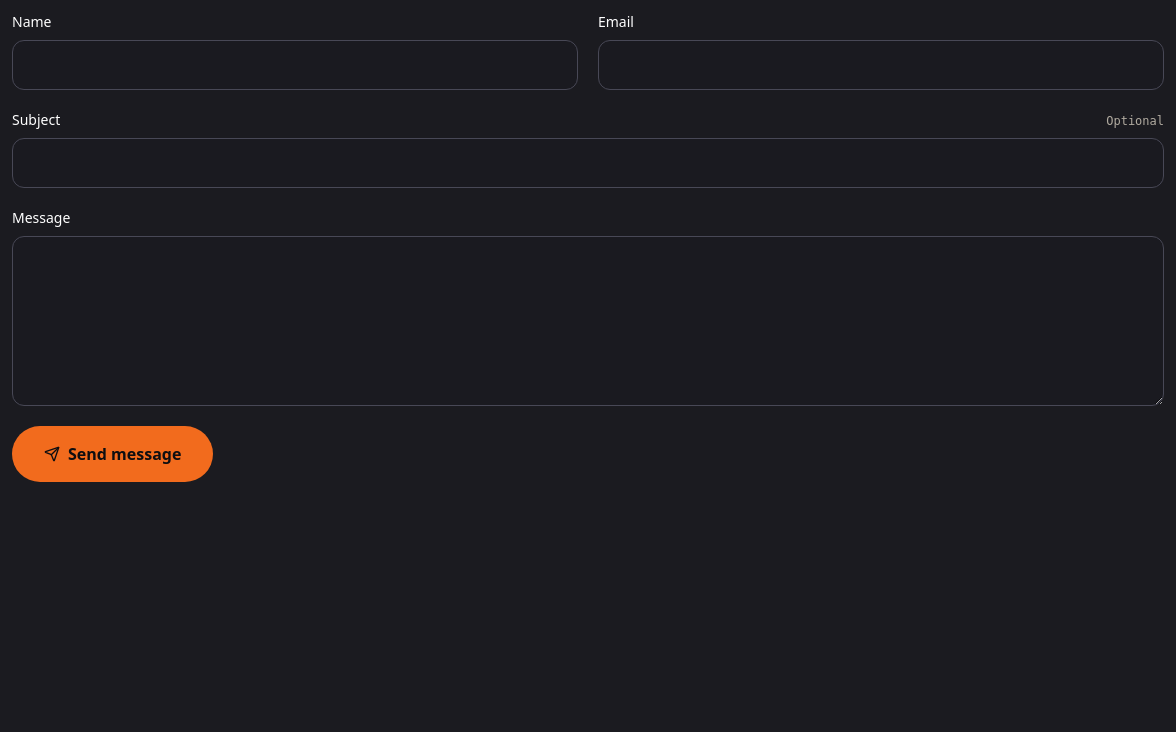
ContactForm › shows validation errors from the server against their fields
Step 1. Type "Wanjiru Kamau" into the field labelled "Name" → [295, 65], box [12, 40, 578, 90]
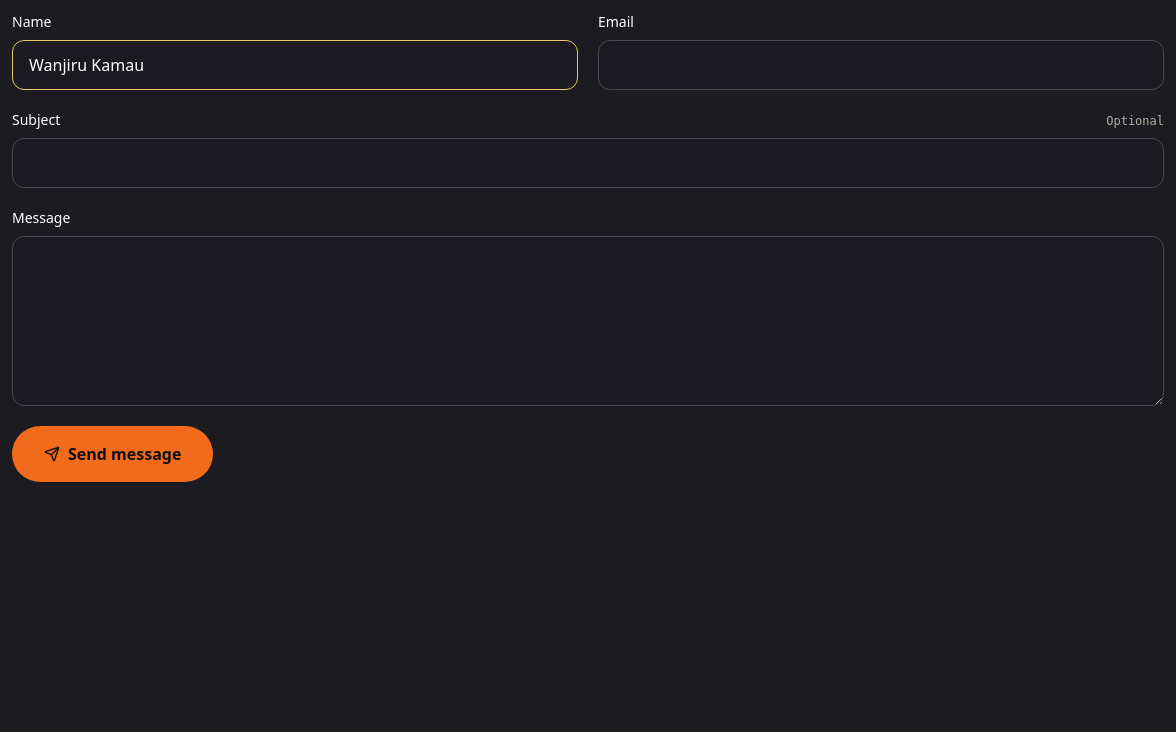
Step 2. Type "wanjiru@example.com" into the field labelled "Email" → [881, 65], box [598, 40, 1164, 90]
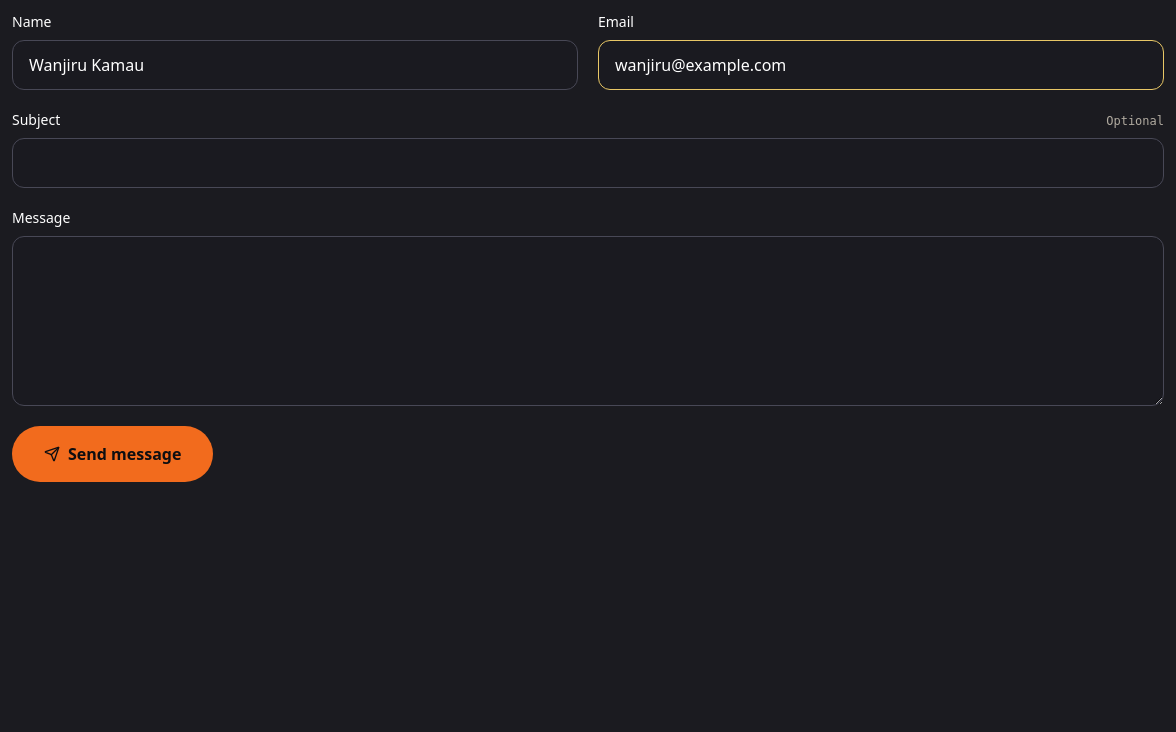
Step 3. Type "Hello Vincent, we have a backend role for you." into the text box labelled "Message" → [588, 321], box [12, 236, 1164, 406]
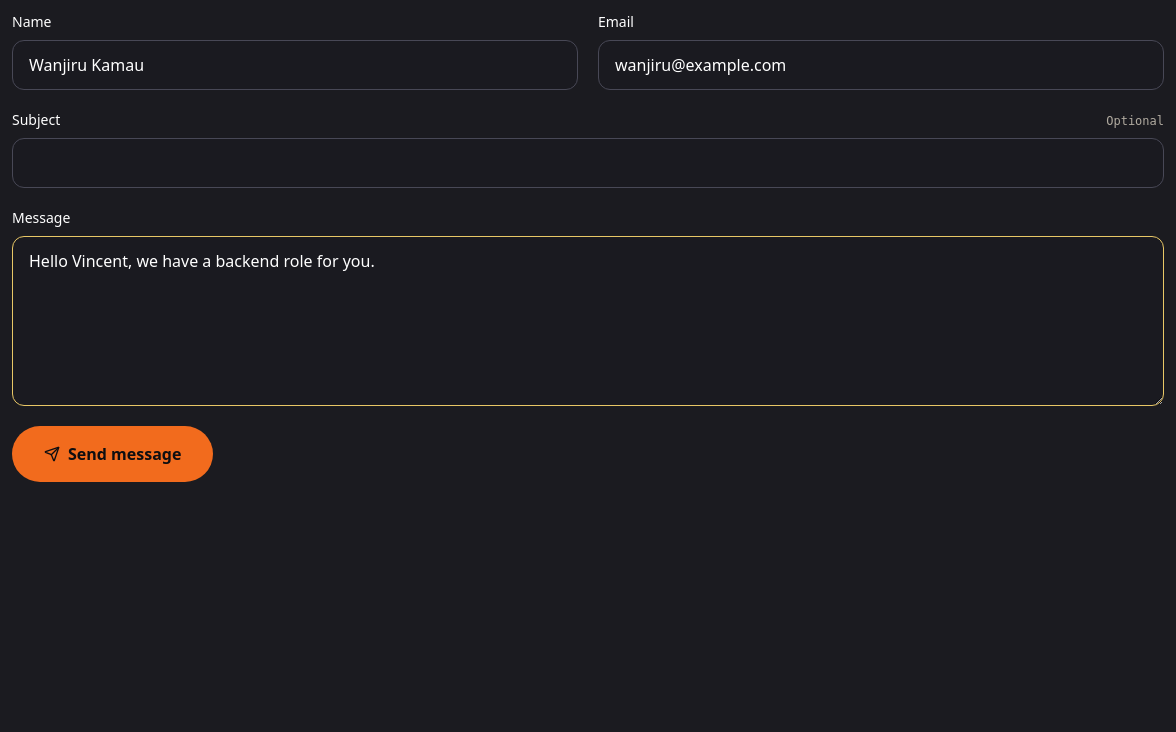
Step 4. Click the button "Send message" → [113, 454], box [12, 426, 213, 482]
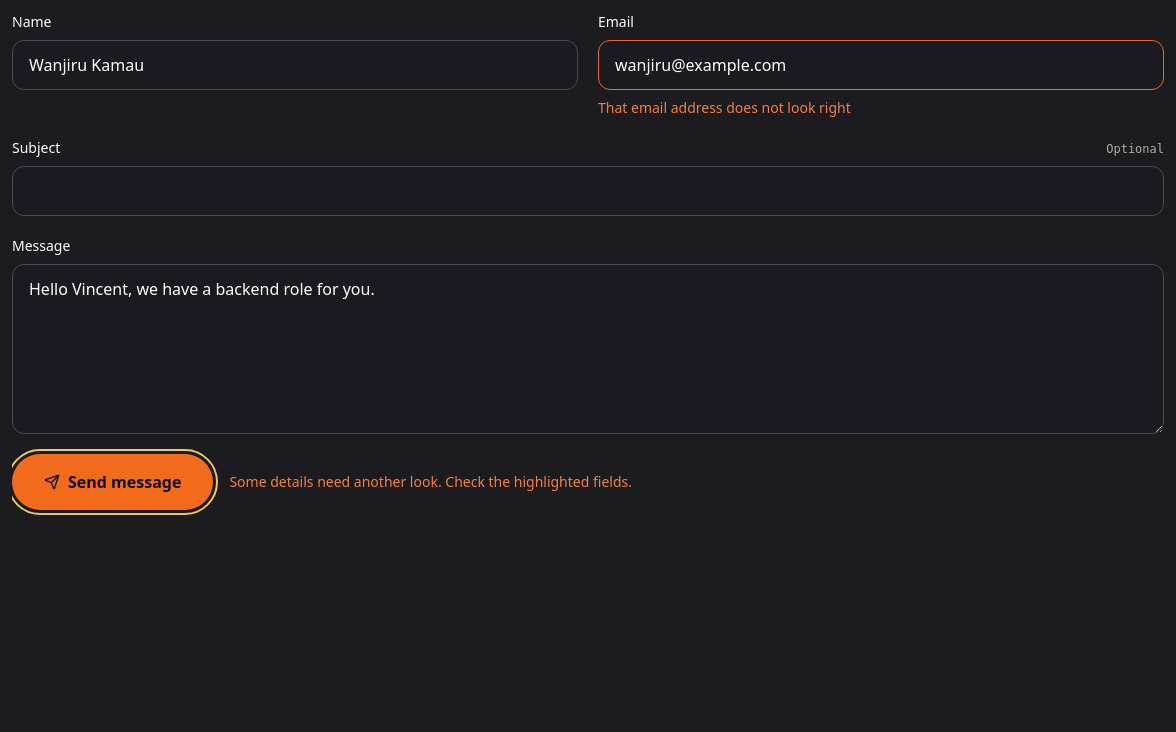
Now the text "Some details need another look. Check the highlighted fields." is shown, box [229, 472, 632, 492]
